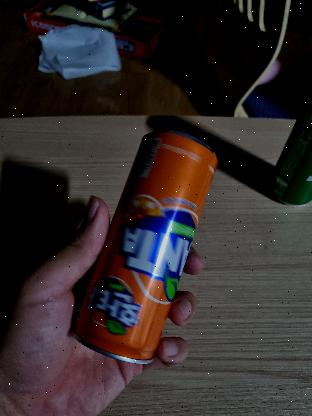Can: (71, 133, 218, 365)
